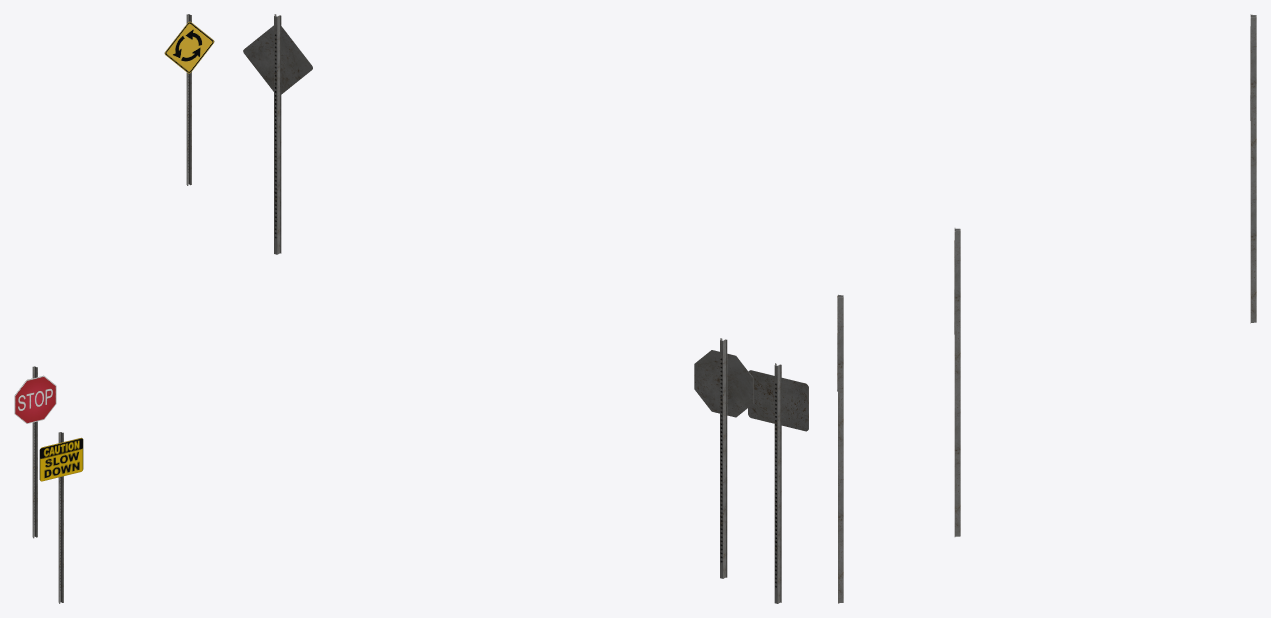
The model's file is signs.glb.
3 views of the same model, side by side, from view 1: azimuth 30°, elevation 25°; view 2: azimuth 150°, elevation 25°; view 3: azimuth 270°, elevation 25° (orthographic). The views are drawn at different scales.
Parts seen in each view (by area): view 1: Cube.085_39, Cube.080_35, Cube.059_15; view 2: Cube.080_35, Cube.085_39, Cube.059_15; view 3: Cube.080_35, Cube.059_15, Cube.085_39.
Part boxes in pixels (box(x1,y1,x2,y2)): Cube.085_39: box(39, 432, 83, 603); Cube.080_35: box(14, 366, 56, 538); Cube.059_15: box(164, 14, 214, 185); Cube.080_35: box(694, 338, 753, 578); Cube.085_39: box(748, 363, 808, 603); Cube.059_15: box(243, 14, 312, 254); Cube.080_35: box(954, 228, 960, 536); Cube.059_15: box(1250, 14, 1256, 323); Cube.085_39: box(837, 294, 843, 603).
Size of the model in its own units: 20.24 by 29.69 by 14.12.
Materials: 1 (1 with a texture image).
